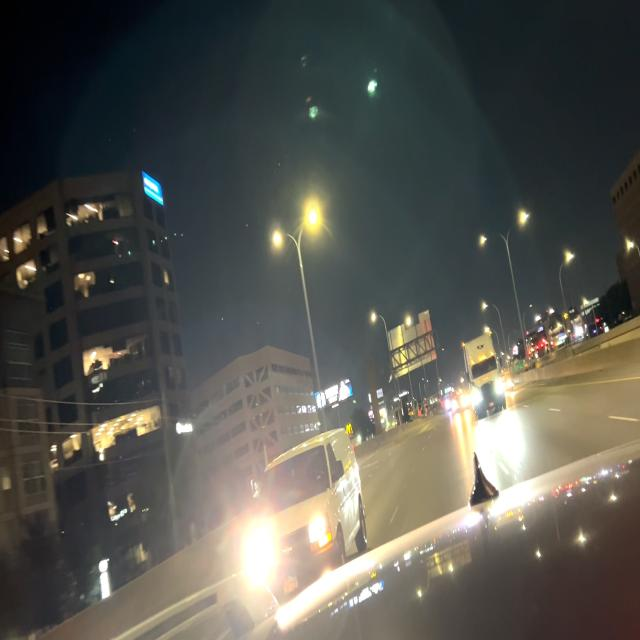back-of-sign: (388, 307, 438, 379)
